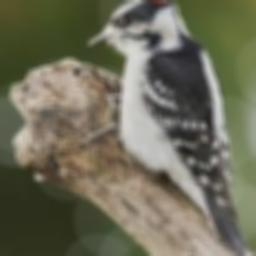Woodpecker: (75, 0, 256, 256)
